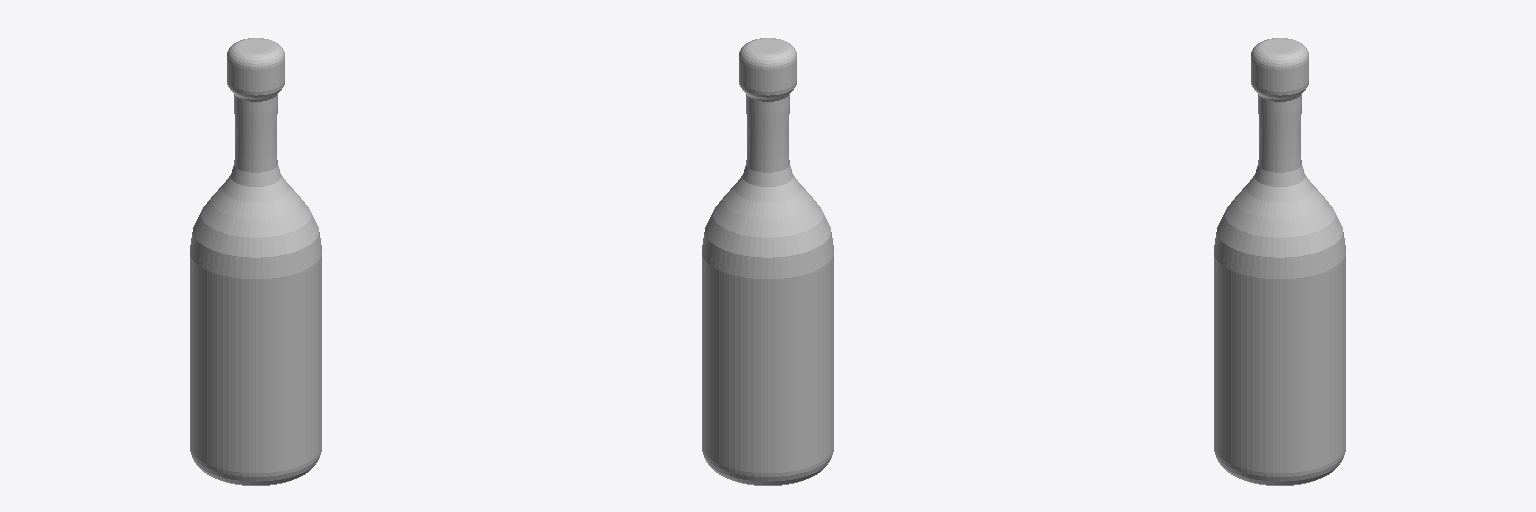
File: wineBottle.obj
The picture shows the model from 3 angles: view 1: azimuth 30°, elevation 25°; view 2: azimuth 150°, elevation 25°; view 3: azimuth 270°, elevation 25°; orthographic projection.
Visible parts, largest first — view 1: Bottle; view 2: Bottle; view 3: Bottle.
Boxes of the visible parts, <box> form: Bottle: <box>190,38,321,485</box>; Bottle: <box>702,38,833,485</box>; Bottle: <box>1214,38,1345,485</box>.
Bounding box in the file's own units: 0.386 × 1.34 × 0.386.